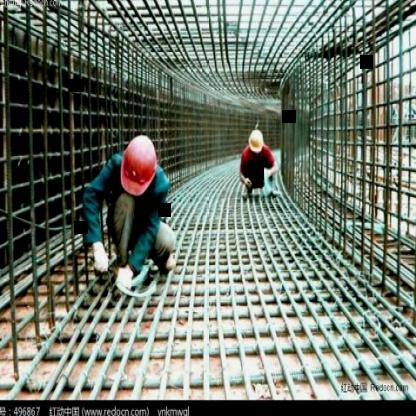helmet: (117, 130, 161, 210), (247, 129, 265, 156)
